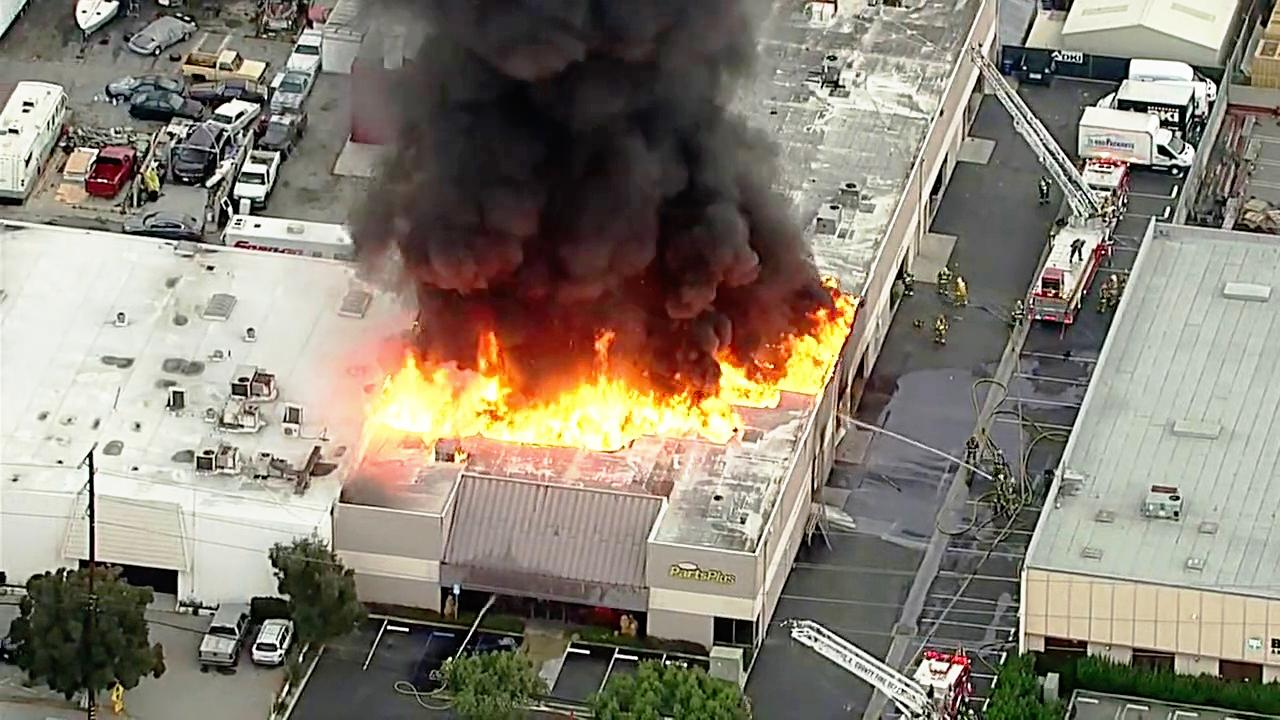fire: (358, 351, 574, 447), (553, 348, 747, 449), (774, 290, 867, 399)
smoke: (445, 0, 754, 337)
